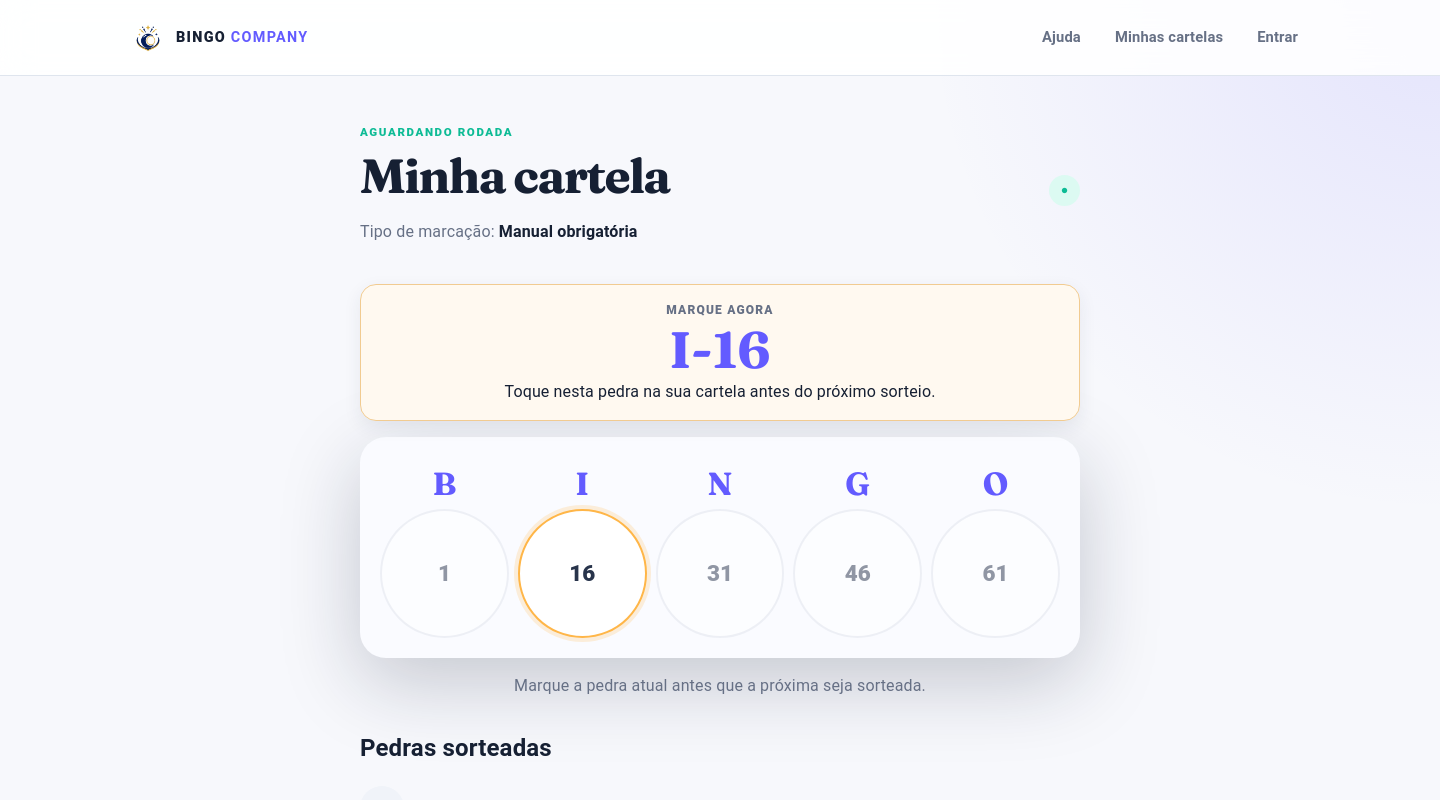
Scenario: CardPage › informa a falha e libera uma nova tentativa de marcação
This screenshot has width=1440, height=800.
Click the button named "Número 16, sorteado": (582,573) [518,509,647,638]
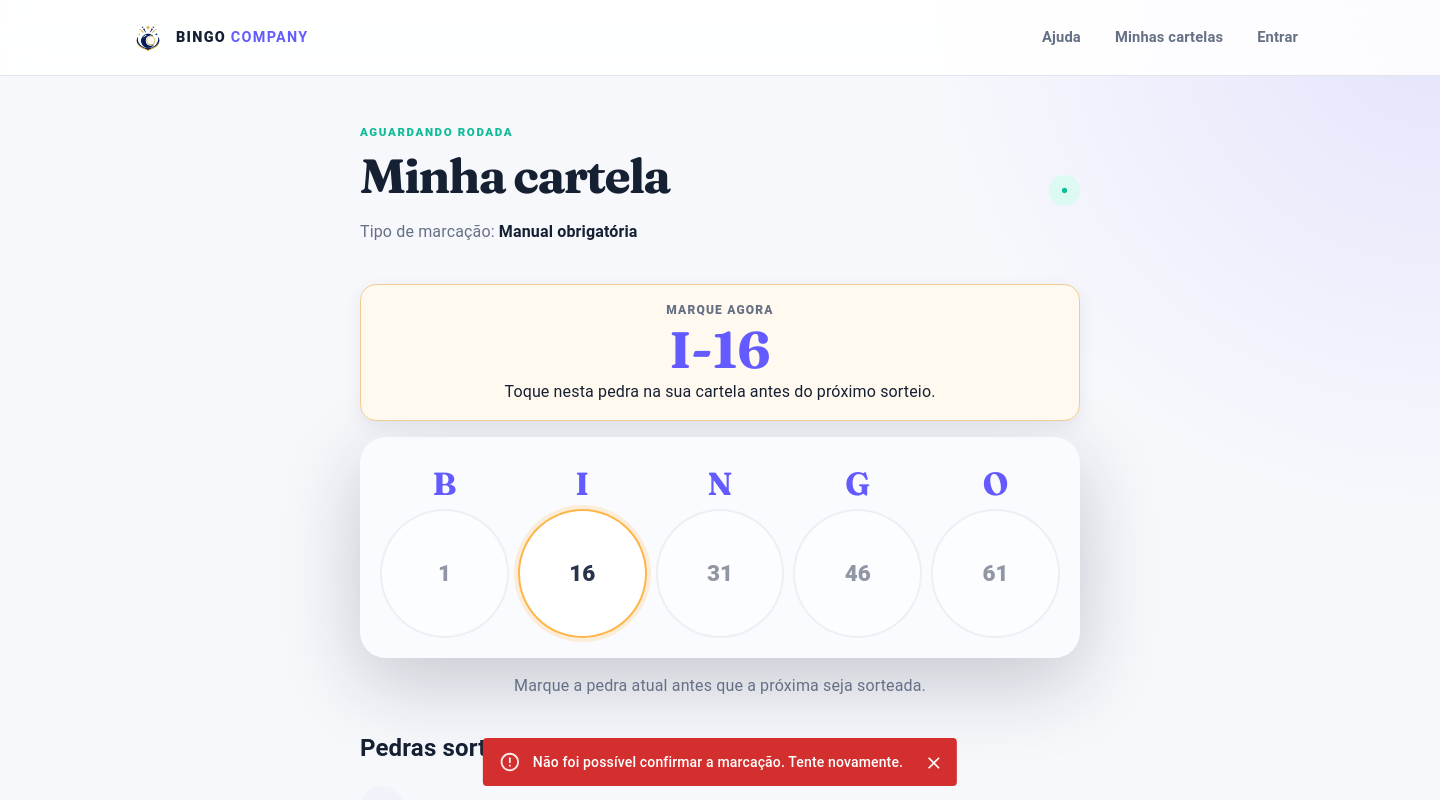
expect the text "Não foi possível confirmar a marcação. Tente novamente." is shown: met, box [533,754,903,770]
